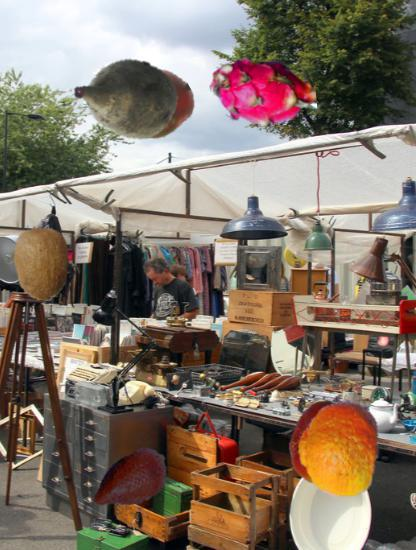Beetroot: (72, 43, 179, 150)
Kiwi: (5, 225, 80, 300)
Mandarine: (290, 400, 389, 499)
Nectarine: (282, 402, 365, 485)
Pitahaya: (211, 45, 316, 150)
Salak: (88, 439, 175, 526)
Tomato: (121, 68, 194, 141)
